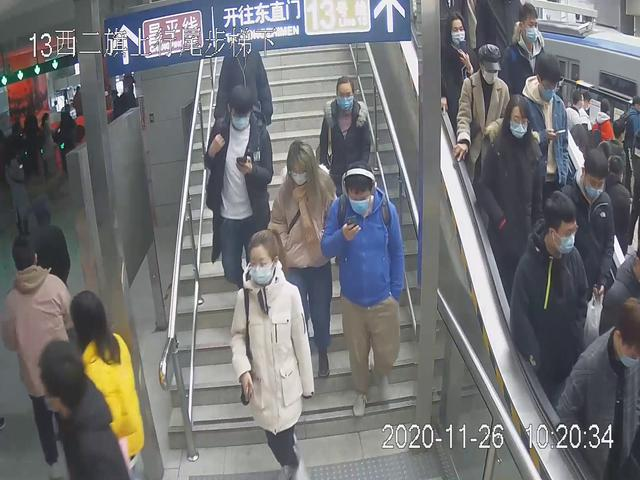person: (320, 158, 408, 420), (227, 227, 314, 480), (511, 184, 593, 400), (270, 135, 340, 387), (200, 83, 278, 308), (477, 93, 548, 319), (315, 73, 373, 214)
